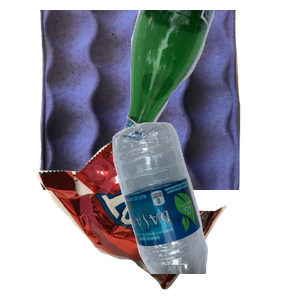glass: (109, 10, 300, 167)
paper: (35, 10, 268, 190)
plastic: (110, 120, 300, 300)
trash: (34, 136, 253, 300)
